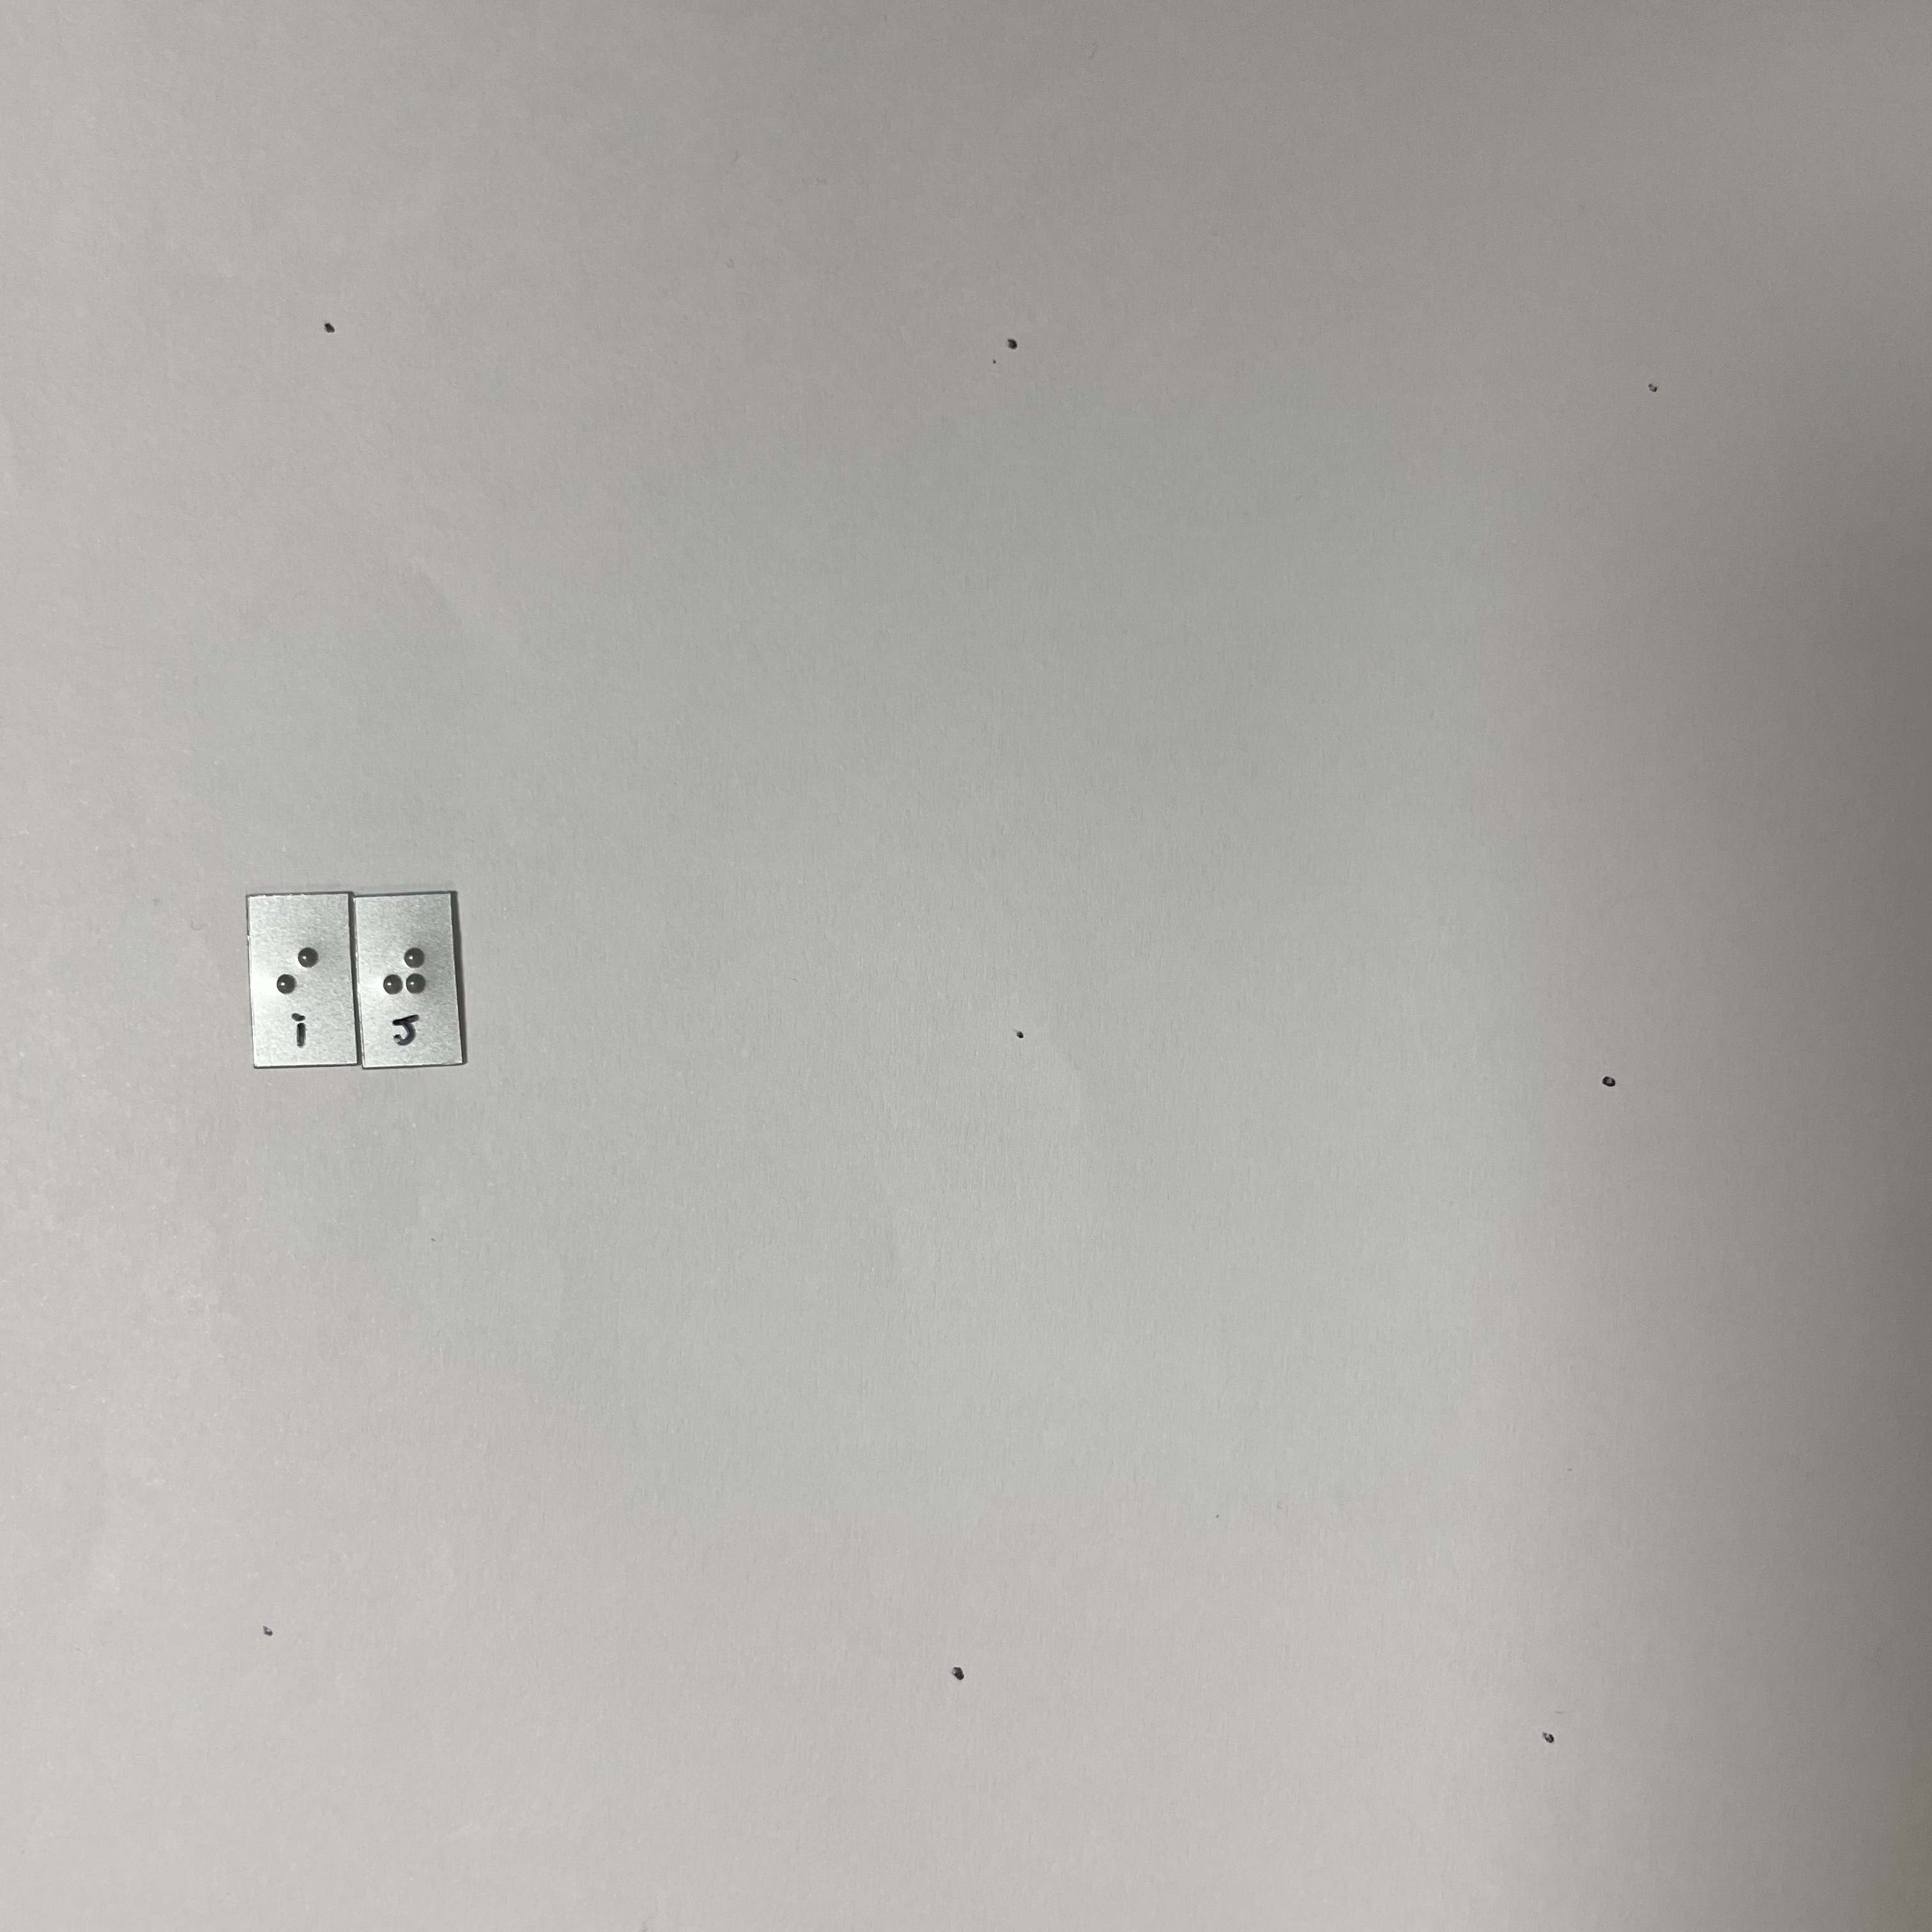i: (270, 942, 329, 1027)
j: (374, 940, 433, 1025)
